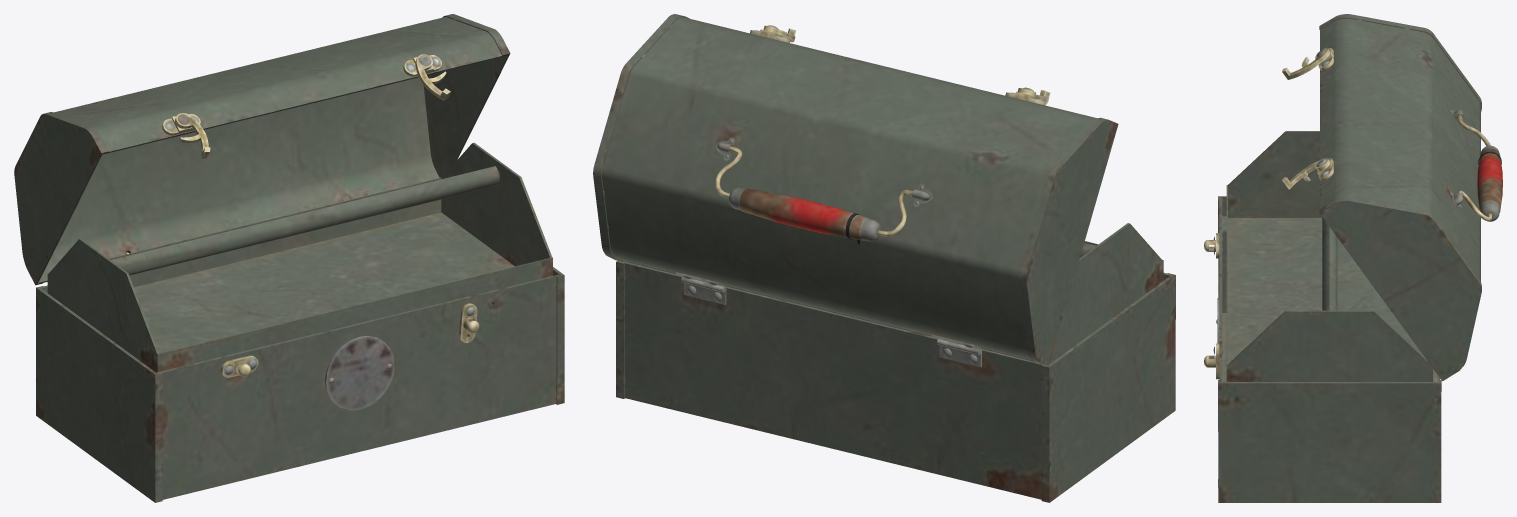
Rendered from metal_toolbox.glb.
3 views of the same model, side by side, from view 1: azimuth 30°, elevation 25°; view 2: azimuth 150°, elevation 25°; view 3: azimuth 270°, elevation 25° (orthographic). The views are drawn at different scales.
Parts seen in each view (by area): view 1: metal_toolbox_lid, metal_toolbox, metal_toolbox_tray, metal_toolbox_handle_latch_r, metal_toolbox_handle_latch_l; view 2: metal_toolbox_lid, metal_toolbox, metal_toolbox_tray, metal_toolbox_handle; view 3: metal_toolbox_lid, metal_toolbox_tray, metal_toolbox, metal_toolbox_handle, metal_toolbox_handle_latch_l, metal_toolbox_handle_latch_r.
Boxes of the visible parts, x1,y1,x2,y2 form: metal_toolbox_lid: (14,14,510,285); metal_toolbox: (36,267,564,502); metal_toolbox_tray: (47,142,552,372); metal_toolbox_handle_latch_r: (415,54,450,100); metal_toolbox_handle_latch_l: (175,113,210,158); metal_toolbox_lid: (593,14,1118,365); metal_toolbox: (616,260,1175,502); metal_toolbox_tray: (628,223,1163,363); metal_toolbox_handle: (715,146,912,244); metal_toolbox_lid: (1317,14,1481,381); metal_toolbox_tray: (1226,131,1432,381); metal_toolbox: (1204,196,1441,502); metal_toolbox_handle: (1457,114,1502,221); metal_toolbox_handle_latch_l: (1282,48,1330,79); metal_toolbox_handle_latch_r: (1282,158,1330,189).
Size of the model in its own units: 0.4 by 0.3047 by 0.2705.
Materials: 1 (1 with a texture image).
